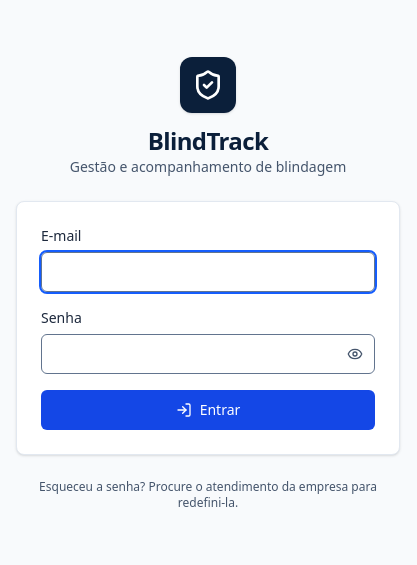
Test: Login › falha de rede mostra mensagem compreensível
Type "alguem@exemplo.example" into the field labelled "E-mail" at [208, 272], box [41,252,375,292]
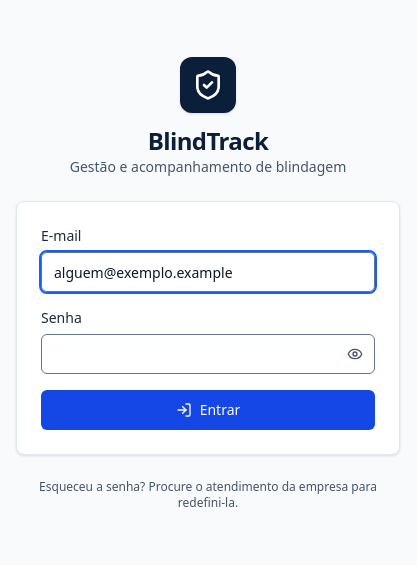
Type "qualquer" into the password field labelled "Senha" at [208, 354], box [41,334,375,374]
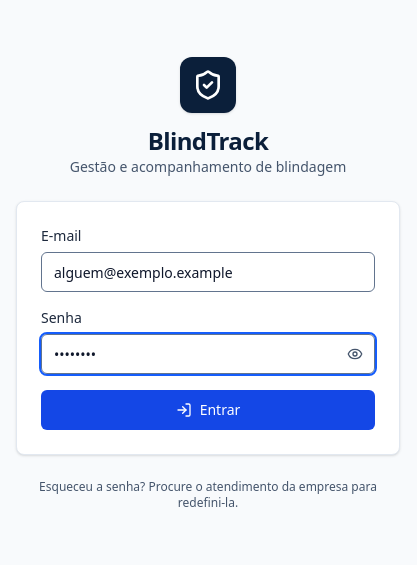
Click the button "Entrar" at [208, 410], box [41,390,375,430]
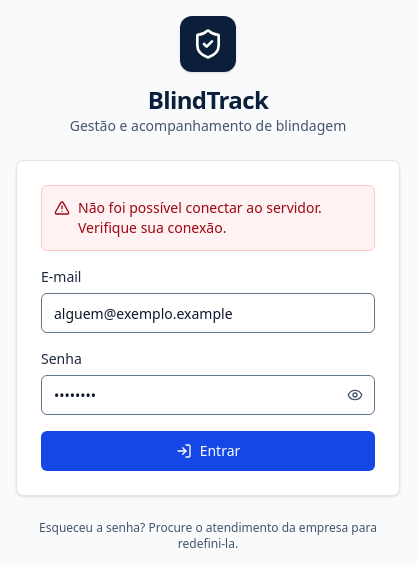
Result: the message shows "Não foi possível conectar ao servidor" at [78,198,322,237]
